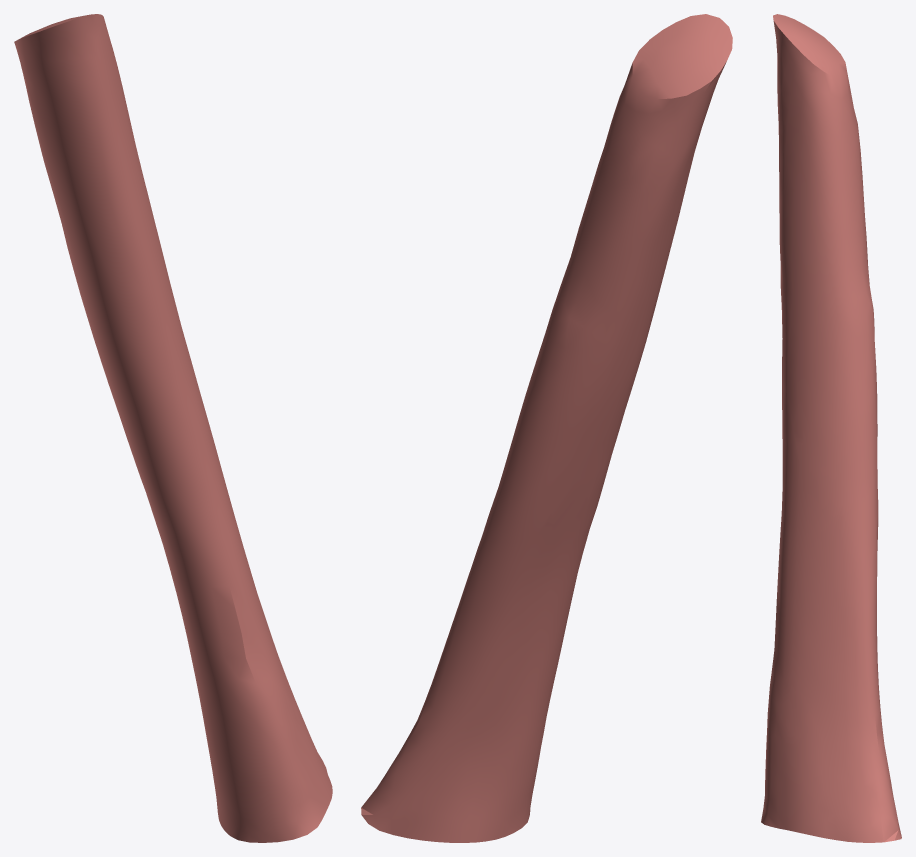
Rendered from fma65155_mm1823m.glb.
3 renders of one model, left to right at view 1: azimuth 30°, elevation 25°; view 2: azimuth 150°, elevation 25°; view 3: azimuth 270°, elevation 25°, orthographic. The views are drawn at different scales.
Parts seen in each view (by area): view 1: FMA65155_MM1823M; view 2: FMA65155_MM1823M; view 3: FMA65155_MM1823M.
Part boxes in pixels (x1=…): FMA65155_MM1823M: x1=14, y1=14, x2=332, y2=842; FMA65155_MM1823M: x1=361, y1=14, x2=732, y2=842; FMA65155_MM1823M: x1=761, y1=14, x2=901, y2=842.
Size of the model in its own units: 0.0269 by 0.0672 by 0.0119.
